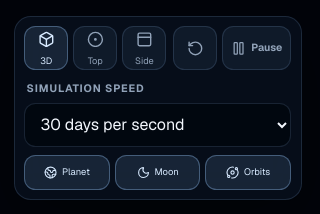
Test case: ViewControls › keeps the visible and accessible pause action in sync
Click the button "Pause".
click(257, 48)  # box [222,26,291,70]
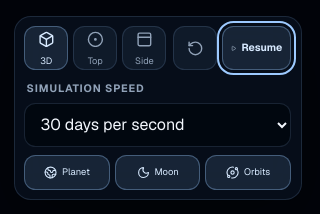
Result: the button "Resume" is shown at [222,26,291,70]
